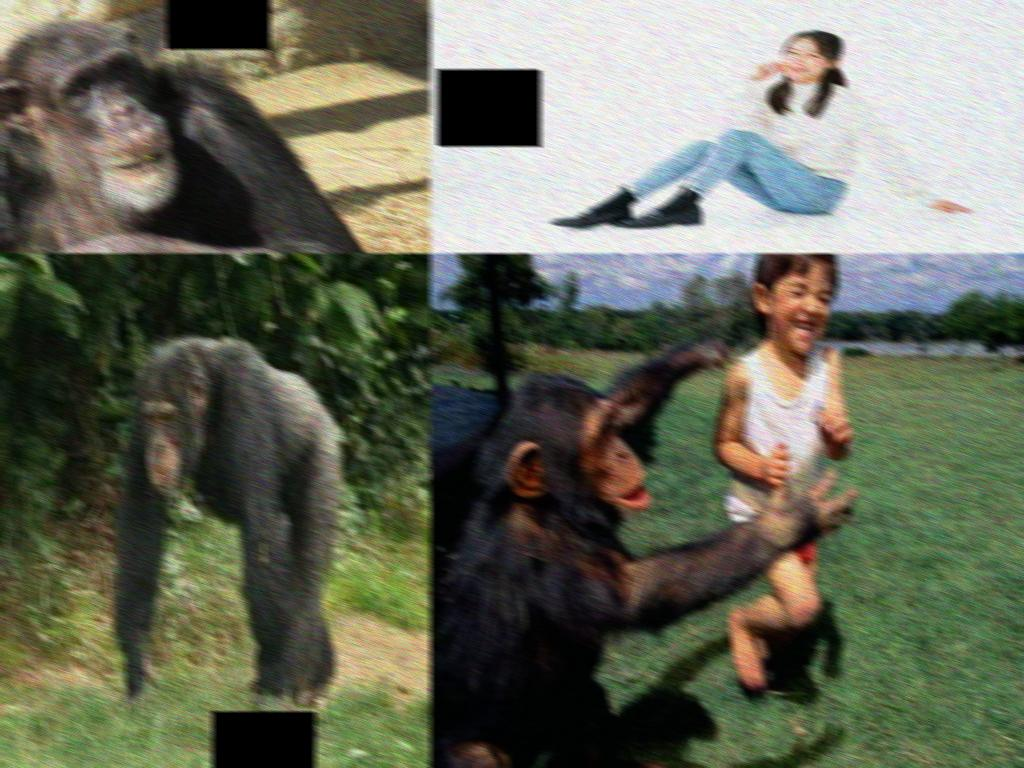chimpanzee: (432, 335, 842, 765), (0, 14, 380, 253), (110, 336, 341, 709)
human: (541, 29, 976, 227), (712, 254, 842, 711)
